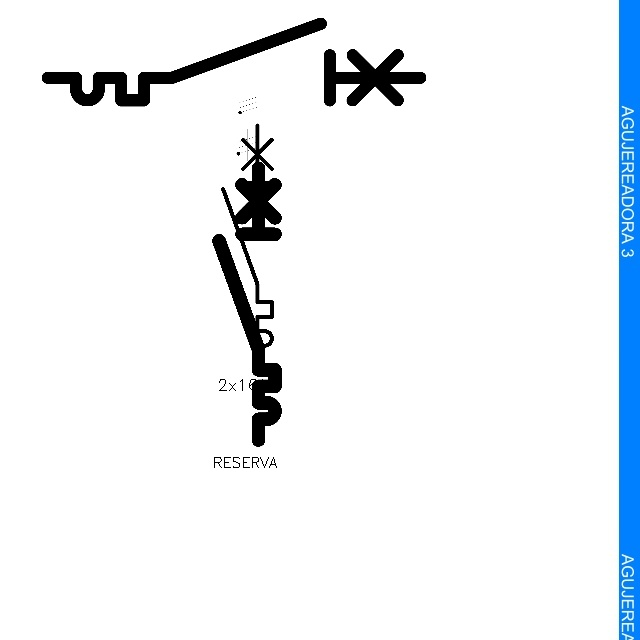interruptor_termomagnetico: (38, 14, 430, 110), (212, 161, 282, 446), (217, 119, 278, 369)
